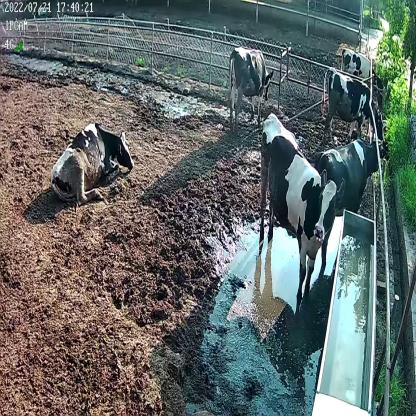cow: (258, 108, 347, 306), (318, 138, 386, 274), (50, 118, 133, 204), (321, 65, 389, 145), (228, 46, 274, 130), (339, 47, 388, 102)
